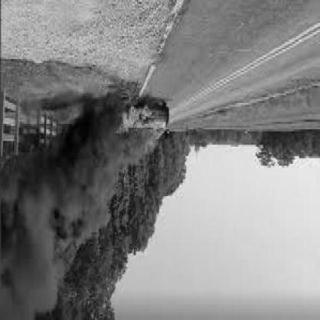Smoke: (2, 141, 130, 320)
